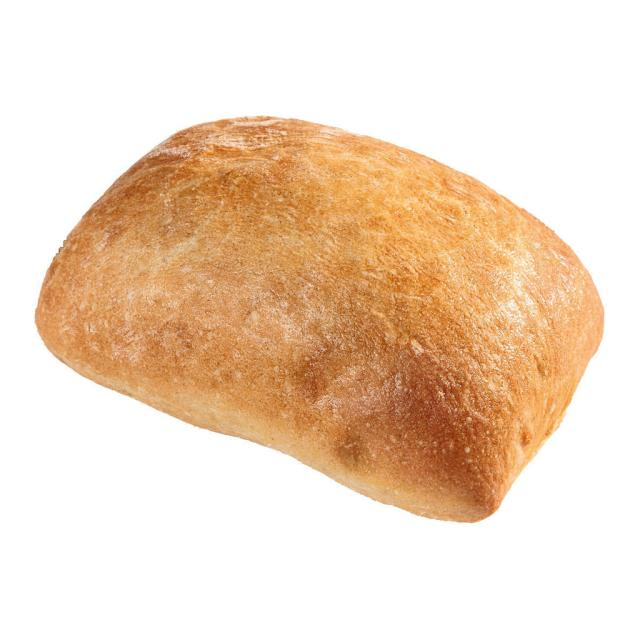Ciabatta: (36, 117, 603, 521)
